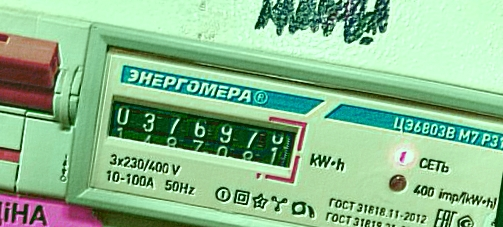0: (113, 102, 131, 126)
1: (266, 144, 280, 165)
3: (141, 110, 158, 133)
6: (191, 114, 210, 139)
7: (165, 111, 184, 137), (242, 125, 261, 150)
9: (217, 120, 234, 144)
screen: (94, 80, 313, 187)
